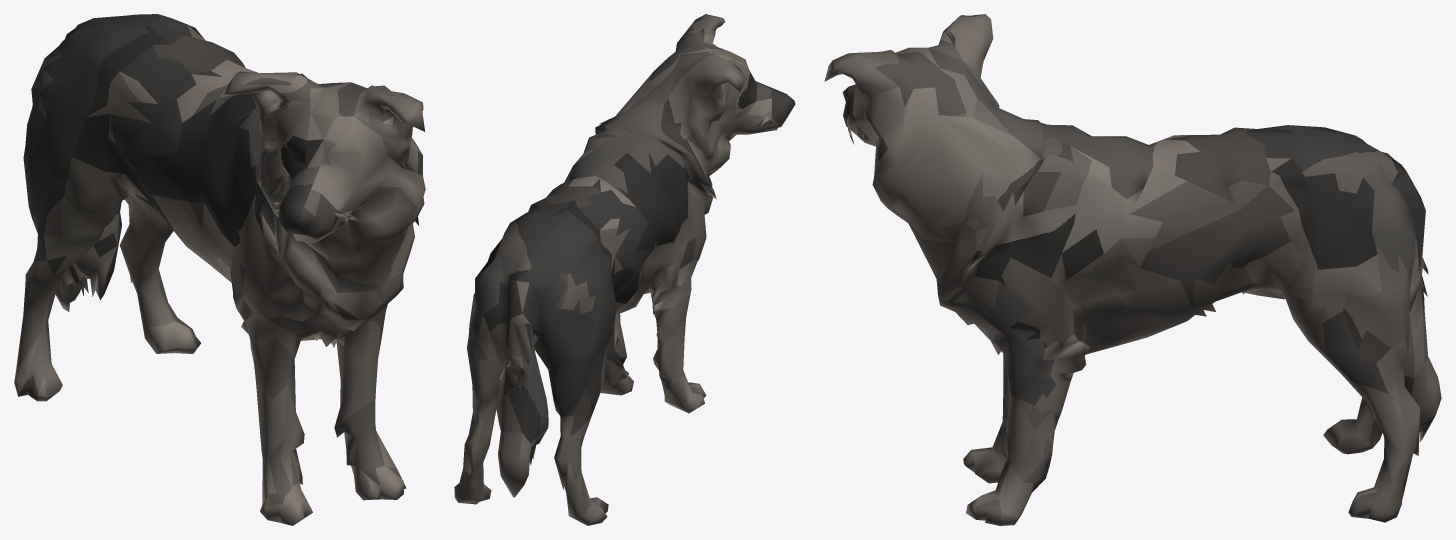
File: dog.glb
3 views of the same model, side by side, from view 1: azimuth 30°, elevation 25°; view 2: azimuth 150°, elevation 25°; view 3: azimuth 270°, elevation 25° (orthographic). The views are drawn at different scales.
Parts seen in each view (by area): view 1: LO.001; view 2: LO.001; view 3: LO.001.
Part boxes in pixels (x1=…): LO.001: x1=14, y1=14, x2=425, y2=525; LO.001: x1=454, y1=14, x2=795, y2=525; LO.001: x1=824, y1=14, x2=1441, y2=525.
Bounding box in the file's own units: 0.3097 × 0.6774 × 0.8615.
Materials: 1 (1 with a texture image).
